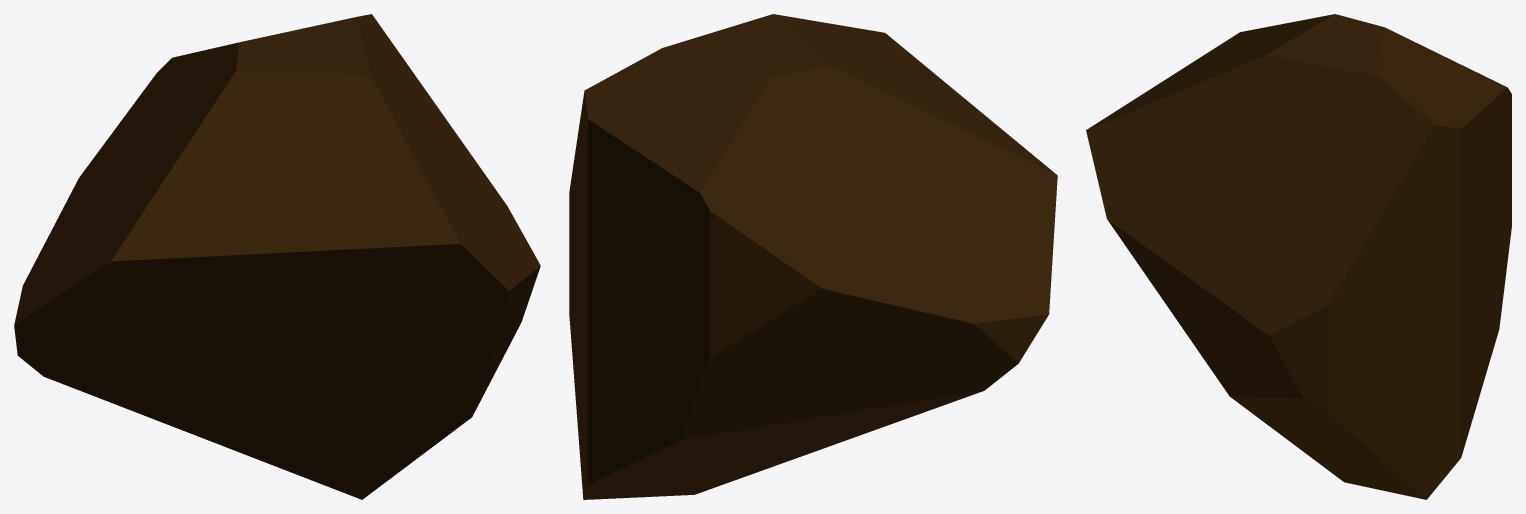
The model's file is Debris5.glb.
3 renders of one model, left to right at view 1: azimuth 30°, elevation 25°; view 2: azimuth 150°, elevation 25°; view 3: azimuth 270°, elevation 25°, orthographic. The views are drawn at different scales.
Parts seen in each view (by area): view 1: Cylinder_cell.004; view 2: Cylinder_cell.004; view 3: Cylinder_cell.004.
Part boxes in pixels (bbox=[...]): Cylinder_cell.004: bbox=[14, 14, 540, 499]; Cylinder_cell.004: bbox=[569, 14, 1057, 499]; Cylinder_cell.004: bbox=[1086, 14, 1511, 499].
Bounding box in the file's own units: 2.13 × 1.93 × 1.81.
